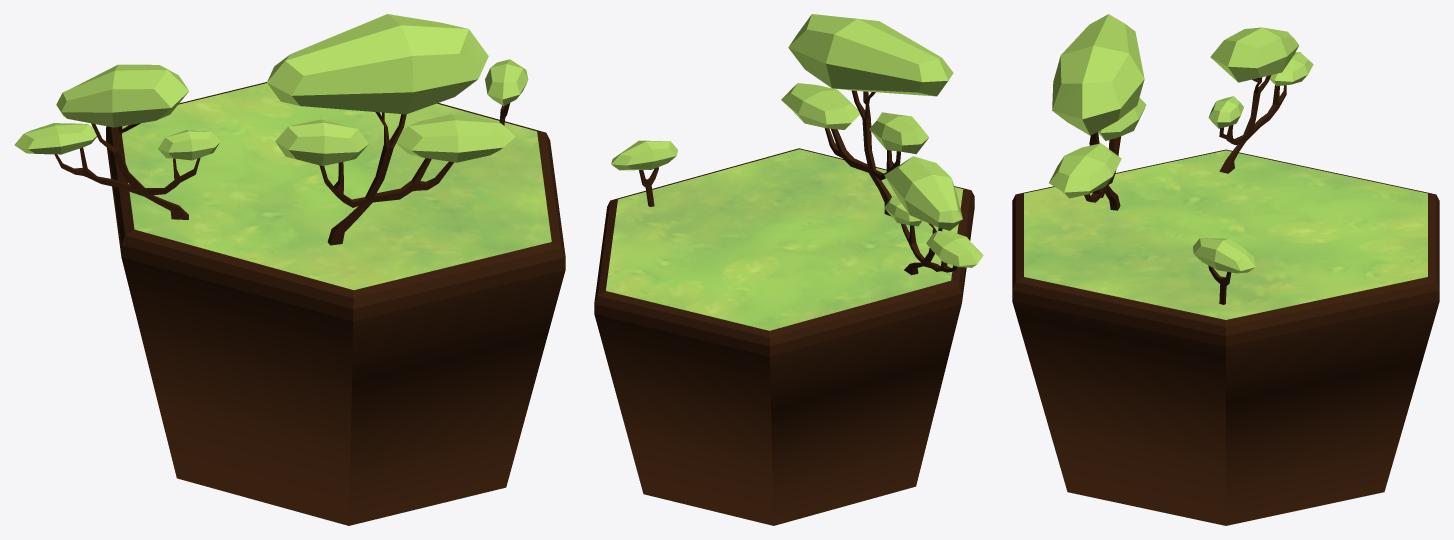
File: Asset_TilePlain 1.fbx
3 views of the same model, side by side, from view 1: azimuth 30°, elevation 25°; view 2: azimuth 150°, elevation 25°; view 3: azimuth 270°, elevation 25° (orthographic). The views are drawn at different scales.
Visible parts, largest first — view 1: PolySurface_TilePlain_01, PolySurface_TreeBall_01 (×3), PolySurface_TreeBall_03 (×2), PolySurface_TreeTrunk_01 (×2), PolySurface_TreeBall_02 (×2); view 2: PolySurface_TilePlain_01, PolySurface_TreeBall_01 (×3), PolySurface_TreeBall_03 (×2), PolySurface_TreeTrunk_01 (×2), PolySurface_TreeBall_02 (×2); view 3: PolySurface_TilePlain_01, PolySurface_TreeBall_01 (×3), PolySurface_TreeBall_03 (×2), PolySurface_TreeTrunk_01 (×2), PolySurface_TreeBall_02 (×2).
Part boxes in pixels (x1=…): PolySurface_TilePlain_01: x1=106, y1=82, x2=565, y2=525; PolySurface_TreeBall_01 (×3): x1=56, y1=14, x2=528, y2=127; PolySurface_TreeBall_03 (×2): x1=14, y1=114, x2=515, y2=162; PolySurface_TreeTrunk_01 (×2): x1=54, y1=112, x2=453, y2=245; PolySurface_TreeBall_02 (×2): x1=158, y1=119, x2=368, y2=165; PolySurface_TilePlain_01: x1=594, y1=148, x2=974, y2=525; PolySurface_TreeBall_01 (×3): x1=611, y1=14, x2=962, y2=230; PolySurface_TreeBall_03 (×2): x1=781, y1=83, x2=983, y2=267; PolySurface_TreeTrunk_01 (×2): x1=824, y1=90, x2=957, y2=275; PolySurface_TreeBall_02 (×2): x1=869, y1=112, x2=928, y2=226; PolySurface_TilePlain_01: x1=1012, y1=149, x2=1439, y2=525; PolySurface_TreeBall_01 (×3): x1=1052, y1=14, x2=1299, y2=273; PolySurface_TreeBall_03 (×2): x1=1049, y1=52, x2=1313, y2=198; PolySurface_TreeTrunk_01 (×2): x1=1084, y1=75, x2=1286, y2=210; PolySurface_TreeBall_02 (×2): x1=1098, y1=96, x2=1243, y2=140.
Bounding box in the file's own units: 2.29 × 2.11 × 2.
